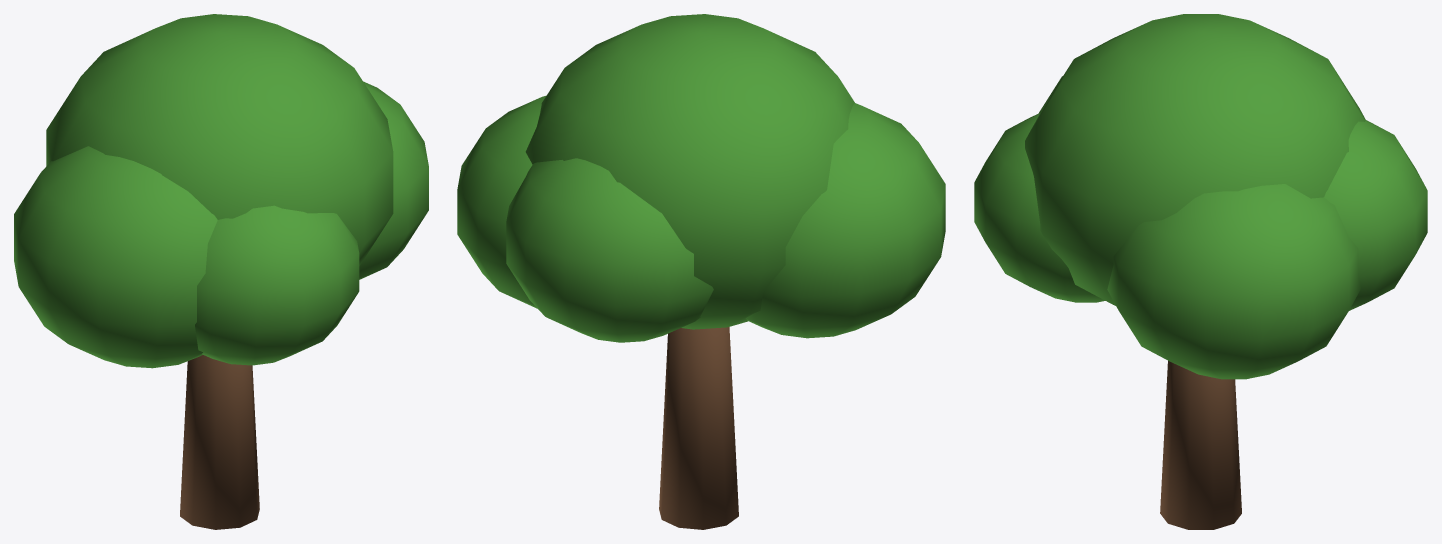
File: tree_oak.glb
The picture shows the model from 3 angles, left to right: view 1: azimuth 30°, elevation 25°; view 2: azimuth 150°, elevation 25°; view 3: azimuth 270°, elevation 25°; orthographic projection.
Visible parts, largest first — view 1: tree_oak; view 2: tree_oak; view 3: tree_oak.
Boxes of the visible parts, left/top/right/bottom form: tree_oak: left=14, top=14, right=428, bottom=529; tree_oak: left=457, top=14, right=945, bottom=529; tree_oak: left=974, top=14, right=1427, bottom=529.
Bounding box in the file's own units: 5.84 × 6.47 × 5.53.
